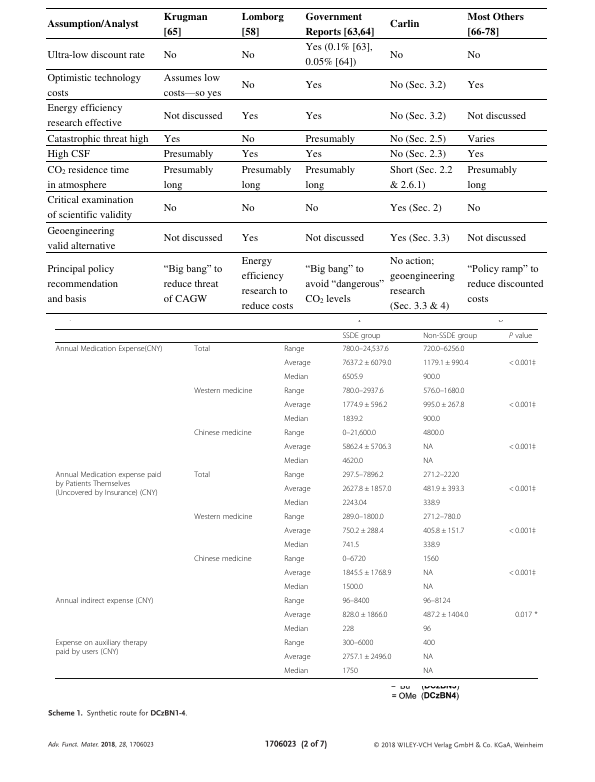borderless: (54, 327, 538, 678), (46, 6, 547, 313)
cell: (389, 254, 456, 313), (305, 260, 385, 306), (466, 260, 545, 305), (46, 262, 119, 305), (241, 254, 294, 313), (55, 470, 162, 498), (163, 260, 223, 305), (46, 71, 142, 99), (46, 193, 135, 222), (46, 163, 130, 191), (46, 101, 123, 130), (305, 9, 375, 38), (305, 40, 374, 69), (46, 224, 116, 252), (389, 163, 454, 191), (55, 638, 148, 657), (466, 9, 525, 38), (163, 71, 222, 100), (466, 163, 518, 191), (163, 163, 214, 191), (241, 163, 292, 191), (305, 163, 356, 191), (46, 132, 149, 145), (163, 9, 209, 38), (46, 17, 139, 31), (46, 48, 146, 61), (241, 9, 285, 38), (55, 344, 163, 354), (55, 596, 154, 606), (389, 231, 451, 245), (466, 231, 527, 245), (163, 231, 223, 245), (305, 231, 365, 245), (389, 78, 447, 92), (389, 147, 447, 161), (466, 109, 527, 122), (163, 109, 223, 122), (389, 109, 447, 122), (389, 132, 447, 145), (163, 147, 214, 161), (389, 201, 443, 214), (305, 132, 356, 145), (46, 147, 91, 161), (193, 386, 253, 396), (193, 512, 253, 522), (193, 428, 252, 438), (193, 554, 252, 564), (341, 358, 392, 368), (341, 442, 392, 452), (341, 484, 392, 494), (341, 568, 392, 578), (341, 652, 392, 662), (422, 331, 478, 340), (341, 344, 390, 354), (422, 358, 469, 368), (341, 400, 388, 410), (341, 610, 388, 620), (422, 610, 469, 620), (341, 526, 385, 536), (389, 17, 420, 31), (422, 344, 465, 354), (341, 386, 384, 396), (422, 386, 465, 396), (422, 400, 465, 410), (341, 470, 384, 480), (422, 484, 465, 494), (341, 512, 384, 522), (422, 526, 465, 536), (422, 512, 461, 522), (466, 132, 496, 145), (422, 470, 460, 480), (341, 331, 381, 340), (341, 428, 377, 438), (341, 638, 374, 648), (508, 358, 537, 368), (508, 400, 537, 410), (508, 442, 537, 452), (508, 484, 537, 494), (508, 526, 537, 536), (508, 568, 537, 578), (341, 596, 370, 606), (422, 596, 451, 606), (283, 358, 311, 368), (283, 400, 311, 410), (283, 442, 311, 452), (283, 484, 311, 494), (283, 526, 311, 536), (283, 568, 311, 578), (283, 610, 311, 620), (283, 652, 311, 662), (341, 498, 368, 508), (466, 78, 485, 92), (466, 147, 485, 161), (283, 372, 309, 382), (283, 414, 309, 424), (283, 456, 309, 466), (283, 498, 309, 508), (283, 540, 309, 550), (341, 554, 367, 564), (283, 582, 309, 592), (283, 624, 309, 634), (283, 666, 309, 676), (305, 78, 323, 92), (241, 147, 259, 161), (305, 147, 323, 161), (241, 231, 259, 245), (514, 610, 538, 620), (241, 109, 259, 122), (305, 109, 323, 122), (163, 132, 181, 145), (341, 372, 364, 382), (341, 414, 364, 424), (422, 428, 445, 438), (341, 456, 364, 466), (341, 582, 364, 592), (508, 331, 533, 340), (283, 344, 305, 354), (283, 386, 305, 396), (283, 428, 305, 438), (283, 470, 305, 480), (283, 512, 305, 522), (283, 554, 305, 564), (283, 596, 305, 606), (283, 638, 305, 648), (241, 78, 256, 92), (163, 48, 178, 61), (241, 48, 256, 61), (389, 48, 404, 61), (466, 48, 481, 61), (241, 132, 256, 145), (163, 201, 178, 214), (241, 201, 256, 214), (466, 201, 481, 214), (422, 372, 441, 382), (422, 414, 441, 424), (422, 498, 441, 508), (341, 540, 360, 550), (422, 540, 441, 550), (305, 201, 319, 214), (193, 344, 211, 354), (193, 470, 211, 480), (422, 554, 440, 564), (341, 666, 359, 676), (341, 624, 355, 634), (422, 638, 436, 648), (422, 442, 434, 452), (422, 456, 434, 466), (422, 568, 434, 578), (422, 582, 434, 592), (422, 652, 434, 662), (422, 666, 434, 676), (422, 624, 432, 634)
